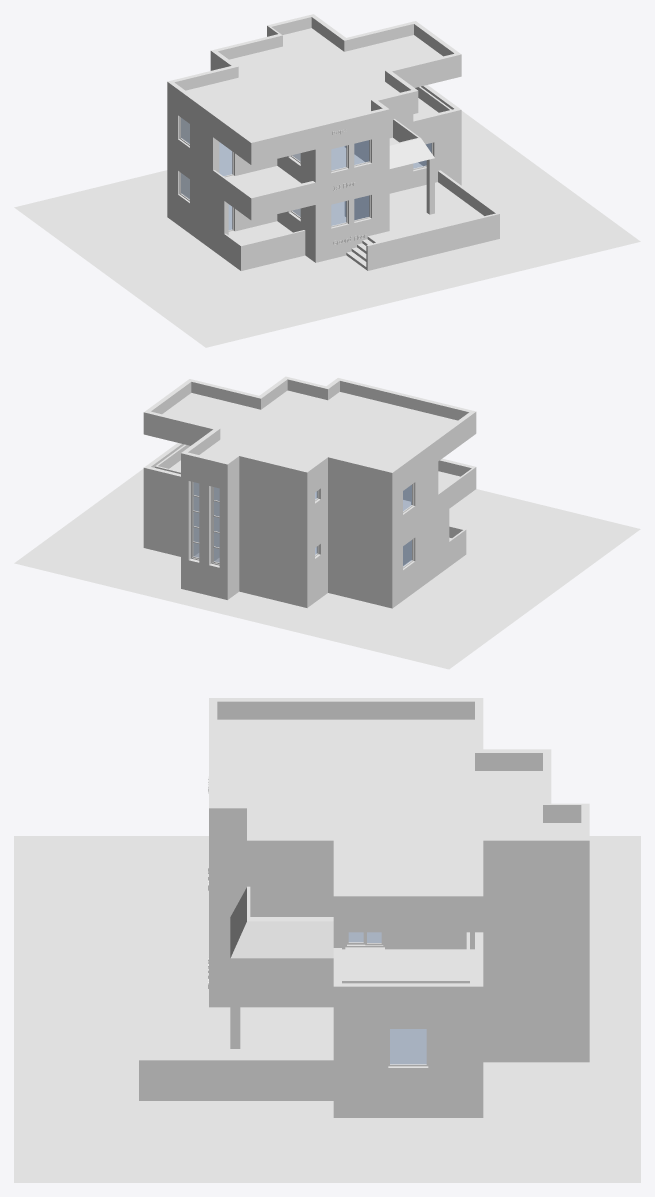
3 views of the same model, one above another, from view 1: azimuth 30°, elevation 25°; view 2: azimuth 150°, elevation 25°; view 3: azimuth 270°, elevation 25° (orthographic). The views are drawn at different scales.
Visible parts, largest first — view 1: Root Node, 18472, 16624, 17853, 20528; view 2: Root Node, 18472, 16624, 17853, Component#7 (×2); view 3: Root Node, 18472, 16624, 17853, Component#4, 20528.
Part boxes in pixels (x1=…): Root Node: x1=14, y1=111, x2=640, y2=347; 18472: x1=167, y1=14, x2=461, y2=164; 16624: x1=167, y1=121, x2=499, y2=270; 17853: x1=167, y1=28, x2=461, y2=220; 20528: x1=426, y1=158, x2=434, y2=214; Root Node: x1=14, y1=469, x2=640, y2=669; 18472: x1=143, y1=376, x2=476, y2=483; 16624: x1=143, y1=479, x2=466, y2=608; 17853: x1=143, y1=399, x2=476, y2=539; Component#7 (×2): x1=191, y1=481, x2=219, y2=565; Root Node: x1=14, y1=836, x2=640, y2=1182; 18472: x1=209, y1=698, x2=589, y2=932; 16624: x1=139, y1=917, x2=589, y2=1117; 17853: x1=209, y1=719, x2=589, y2=1004; Component#4: x1=388, y1=1029, x2=428, y2=1066; 20528: x1=230, y1=958, x2=240, y2=1048.
Size of the model in its own units: 24.68 by 7.35 by 18.85.
